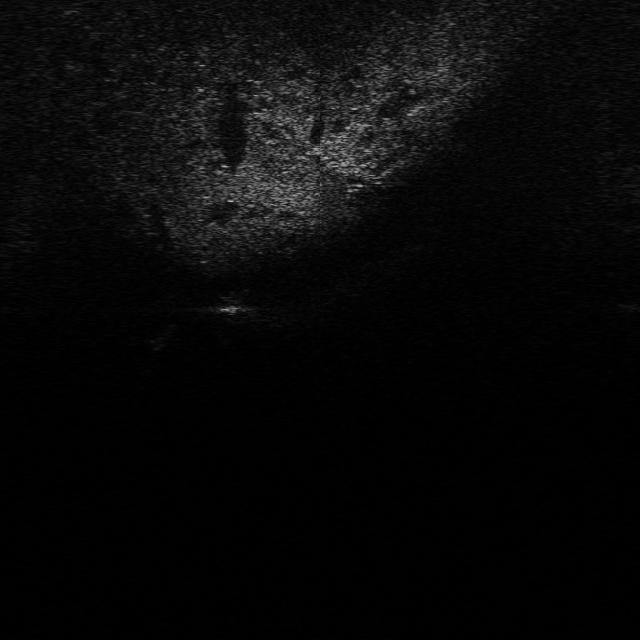cube: (213, 292, 256, 319)
cylinder: (144, 321, 180, 355)
